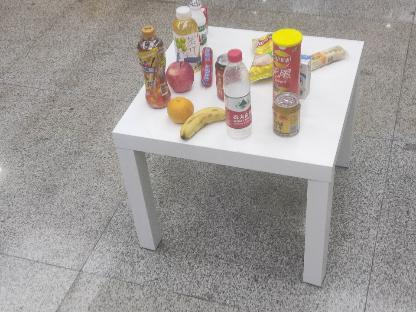Can: (270, 91, 300, 137)
Others: (268, 26, 306, 108)
Plastic Bottle: (220, 47, 256, 140)
